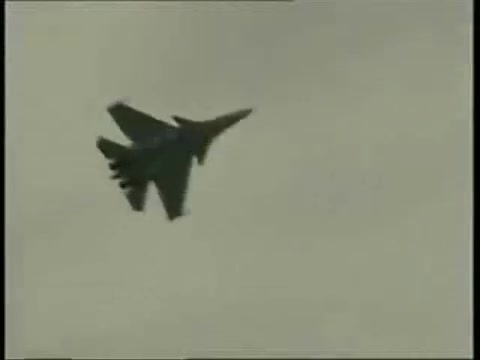aeroplane: (93, 98, 256, 225)
